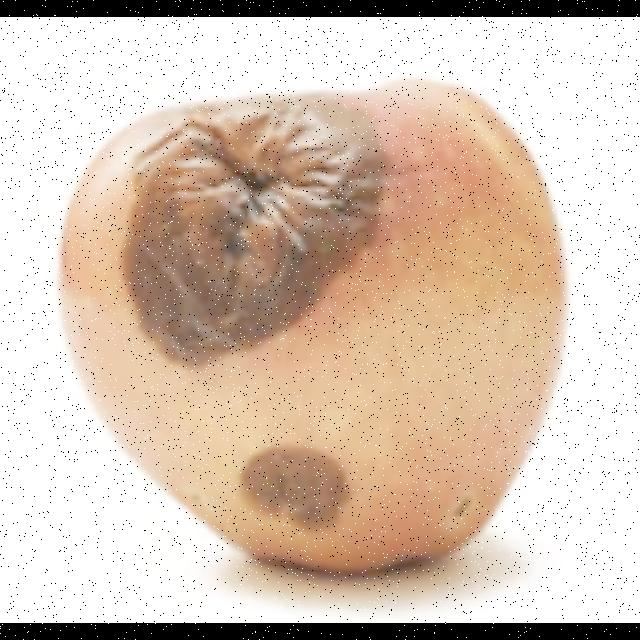Apel Tidak Segar: (62, 79, 572, 575)
